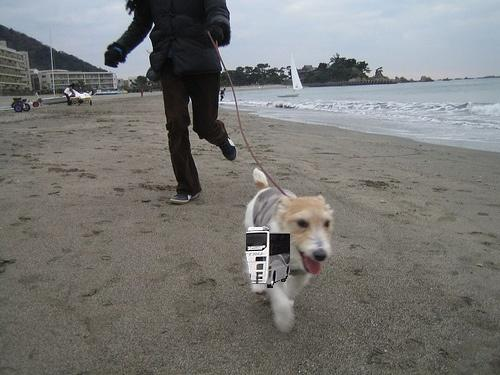tampered: (246, 227, 290, 288)
